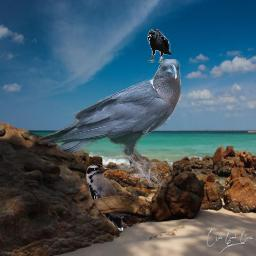Crow: (38, 59, 181, 187), (147, 29, 171, 63)
Woodpecker: (86, 164, 149, 231)
